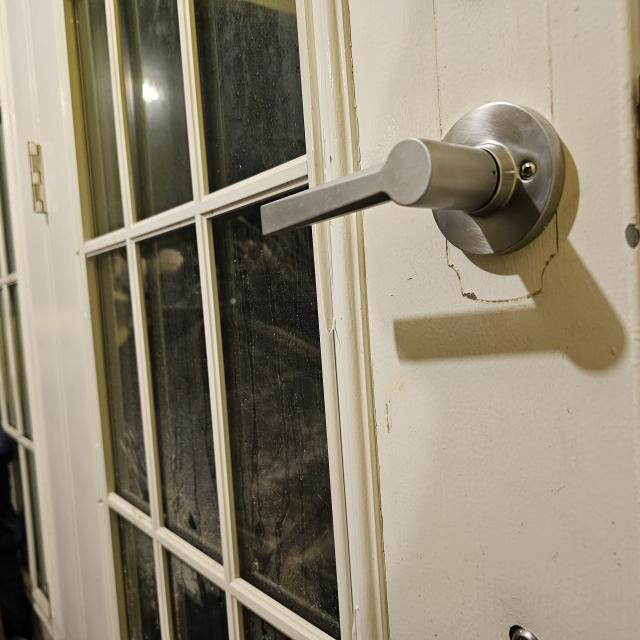door-handle: (261, 102, 564, 255)
